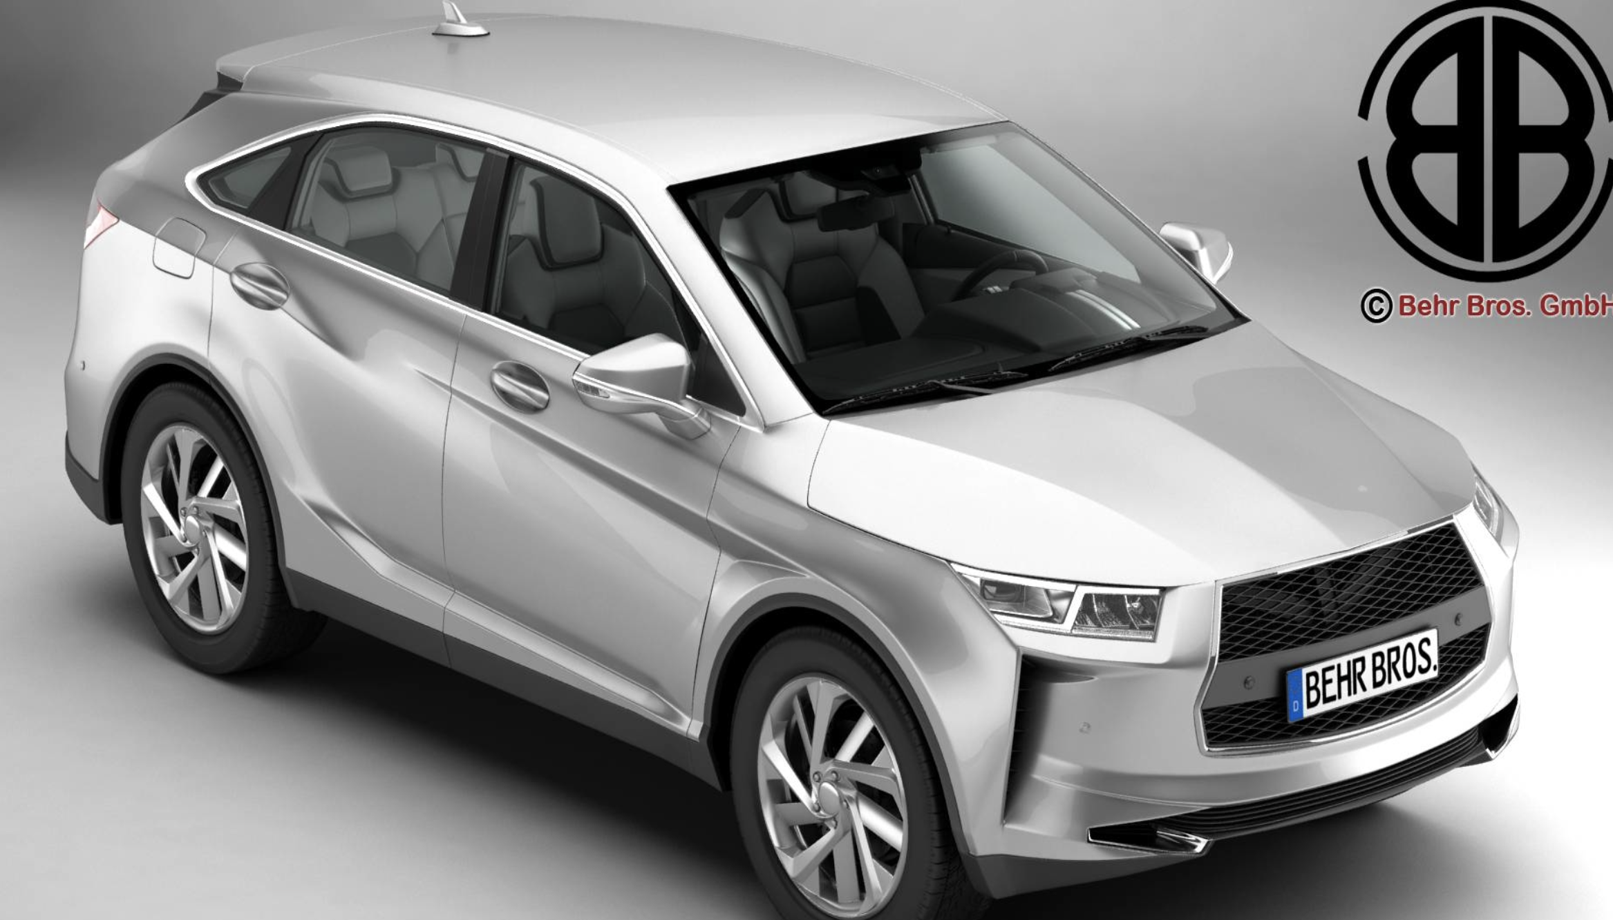hatch: (147, 212, 210, 287)
